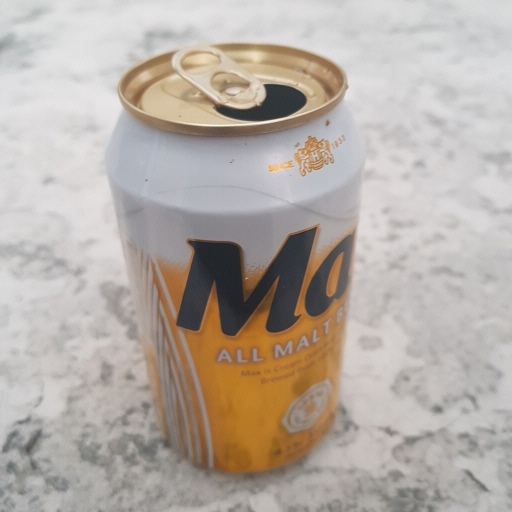Metal_0: (105, 39, 367, 470)
